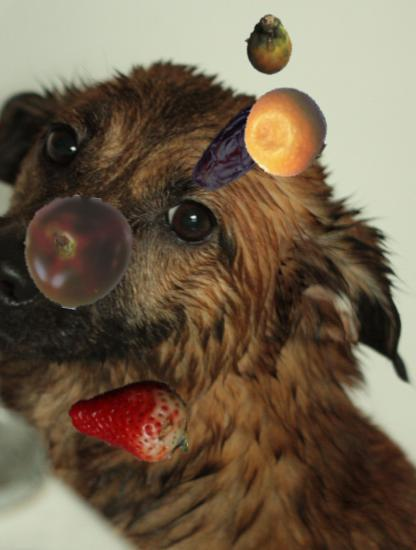Cactus: (241, 17, 299, 75)
Dates: (184, 99, 288, 203)
Kumquats: (240, 87, 331, 178)
Strawberry: (69, 363, 188, 482)
Tomato: (20, 195, 135, 310)
